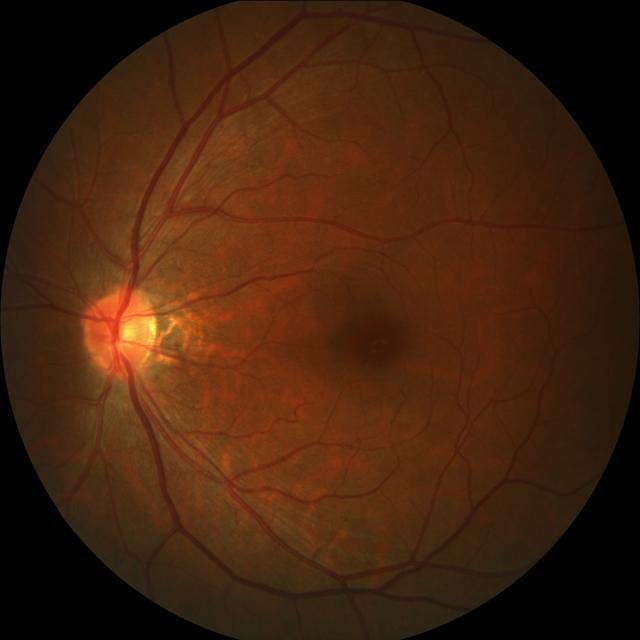OC: (101, 313, 142, 354)
OD: (85, 287, 159, 373)
